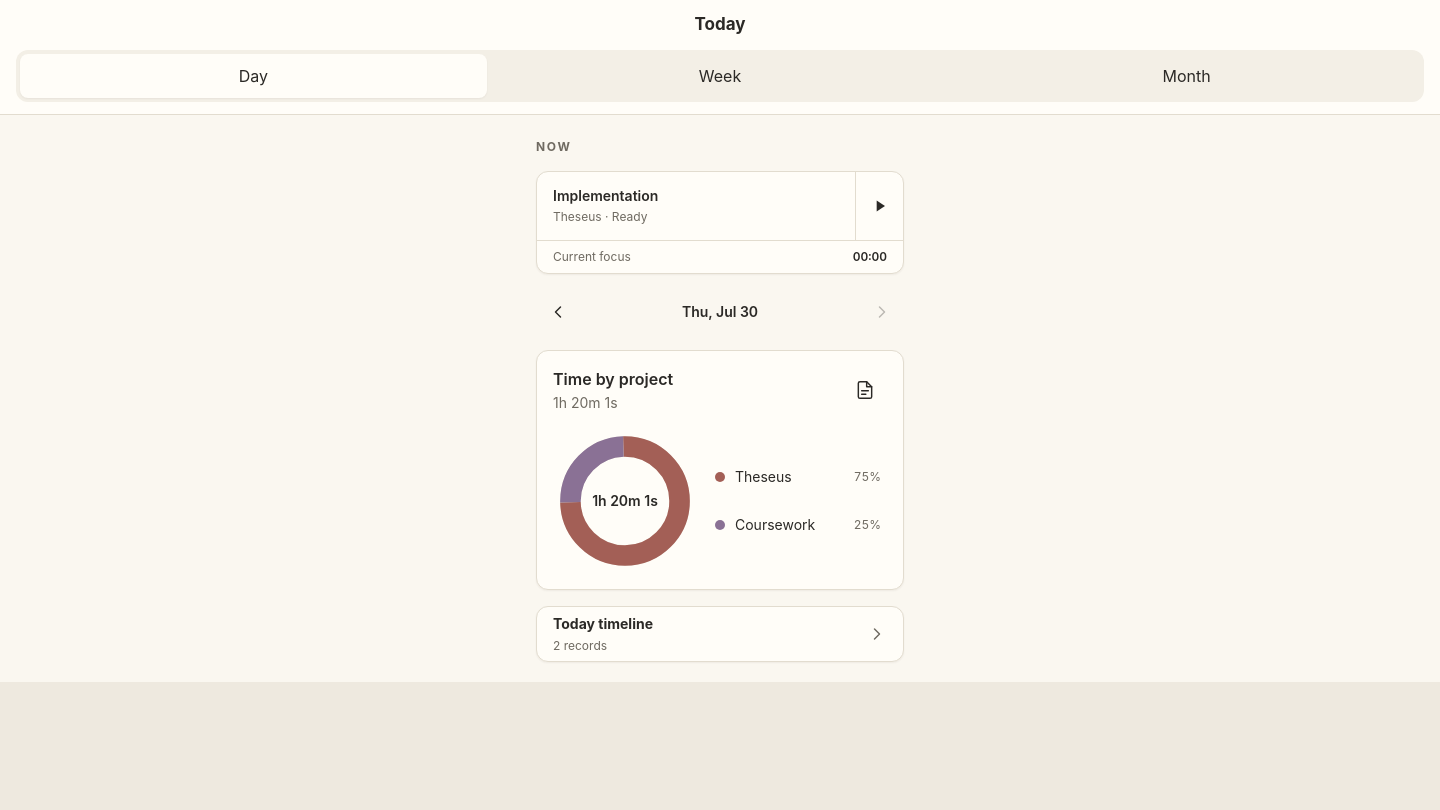
Scenario: TodayScreen › starts the foreground Activity through the durable FocusSession API
Click the button named "Start Implementation".
click(879, 206)  # box [855,172,903,240]
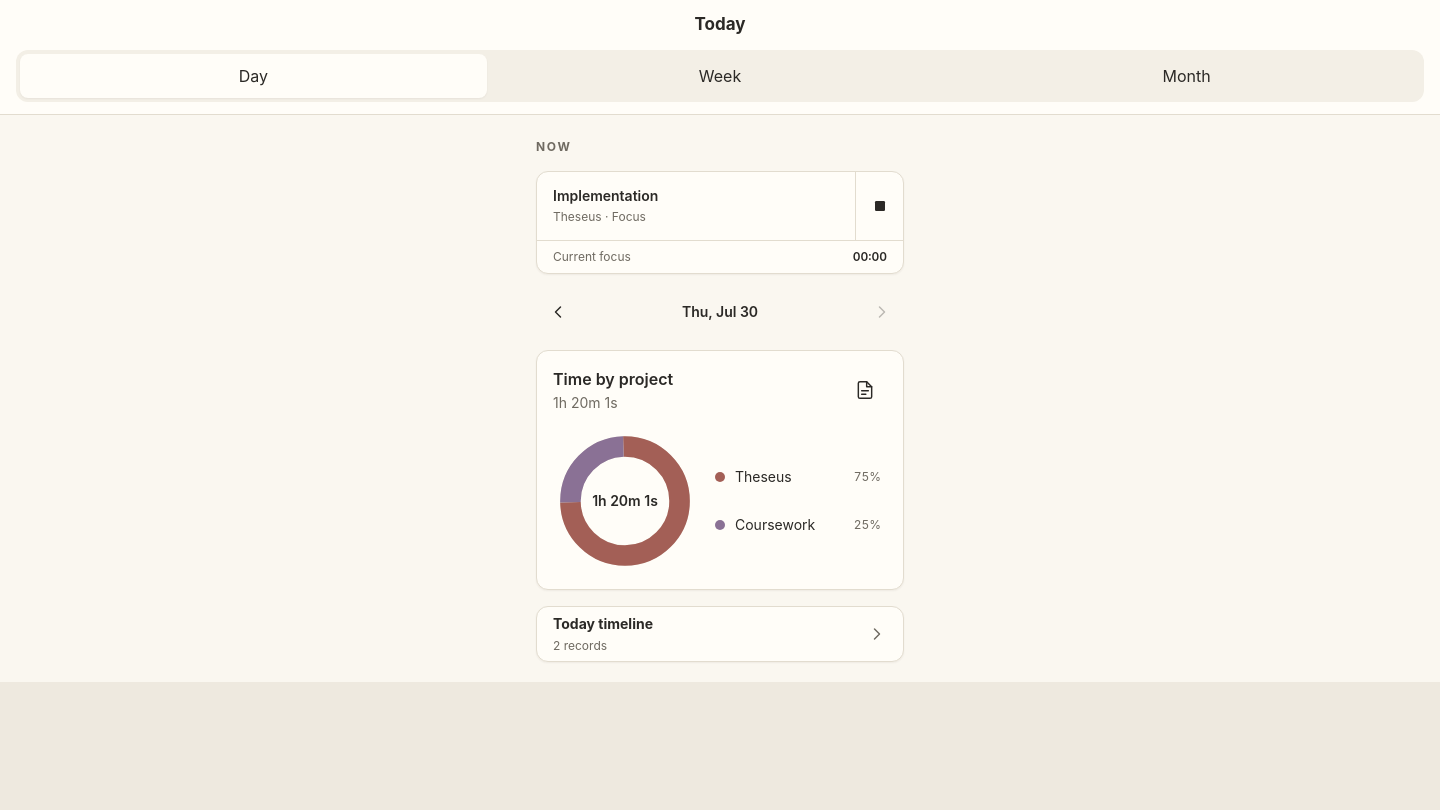
Check: the button named "End Implementation" is shown, box [855,172,903,240]
Check: the text "Theseus · Focus" is shown, box [553,209,646,224]
